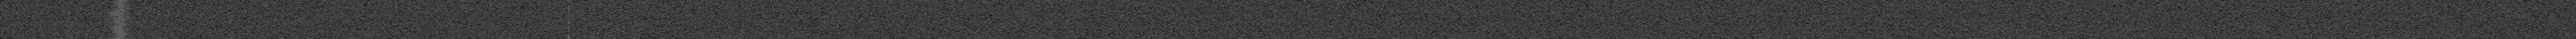wv_lsb: (67, 10, 71, 18), (67, 19, 71, 23), (67, 24, 69, 29)
wv_usb: (567, 0, 570, 18), (567, 18, 570, 32), (567, 34, 570, 39)
wv_wbfm: (105, 0, 135, 39)
